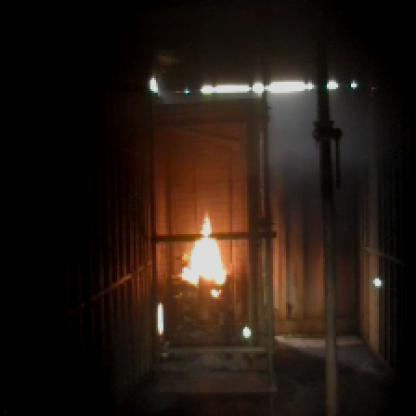Fire: (182, 208, 227, 301)
